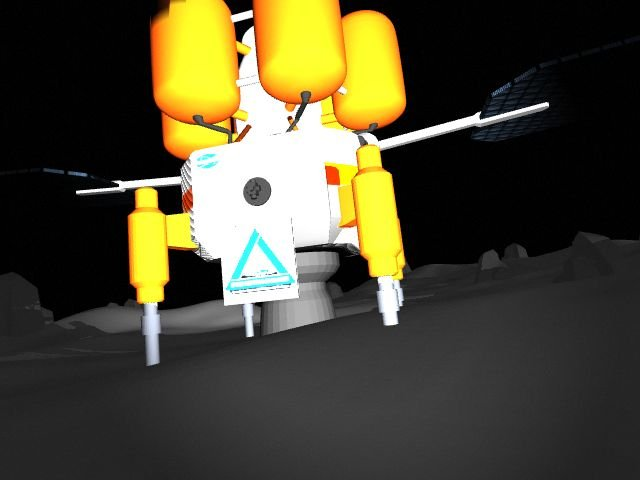basemarker: (224, 226, 297, 295)
